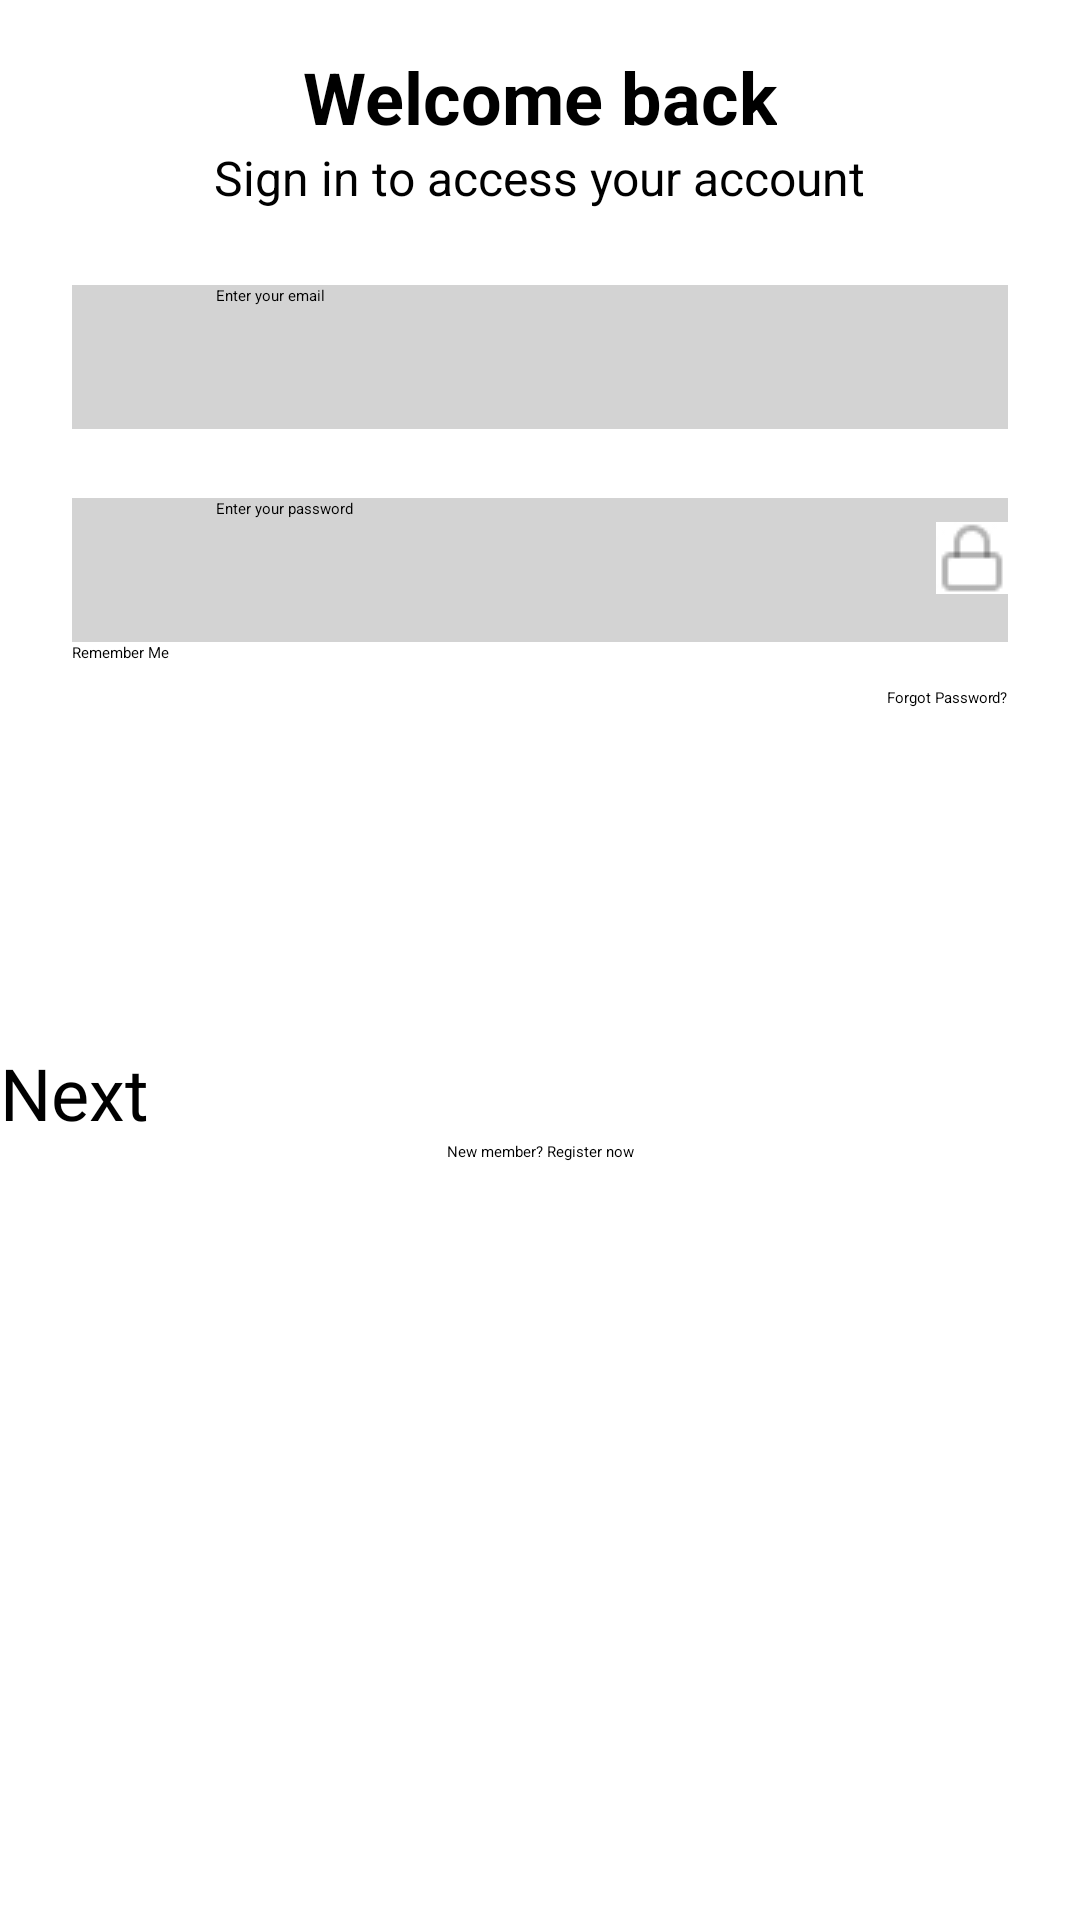

Screen size 1080 x 1920. Icon name, then its box in pixels as (x1, y1, x2, y2):
lock: (941, 524, 1003, 592)
